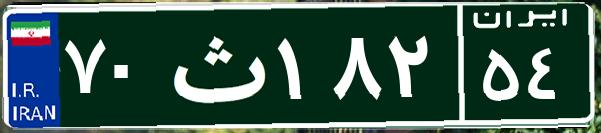0: (110, 28, 158, 105)
1: (273, 28, 330, 110)
2: (385, 28, 445, 110)
4: (525, 38, 570, 115)
5: (475, 38, 525, 113)
7: (57, 26, 110, 107)
8: (330, 28, 385, 110)
ث: (158, 15, 273, 115)
